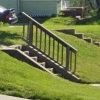stairs: (15, 42, 80, 80)
